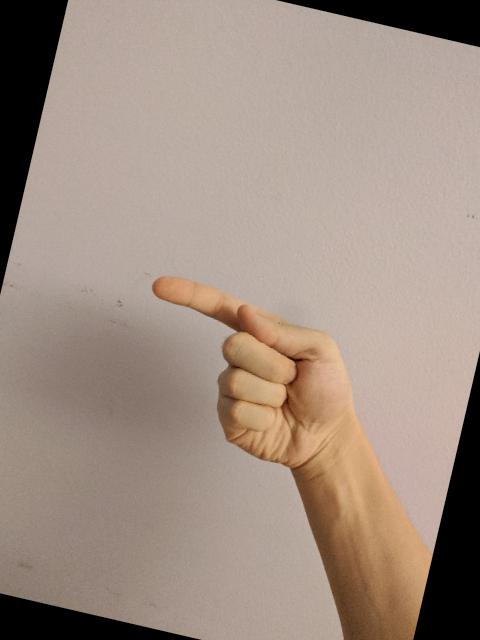G: (115, 266, 378, 484)
